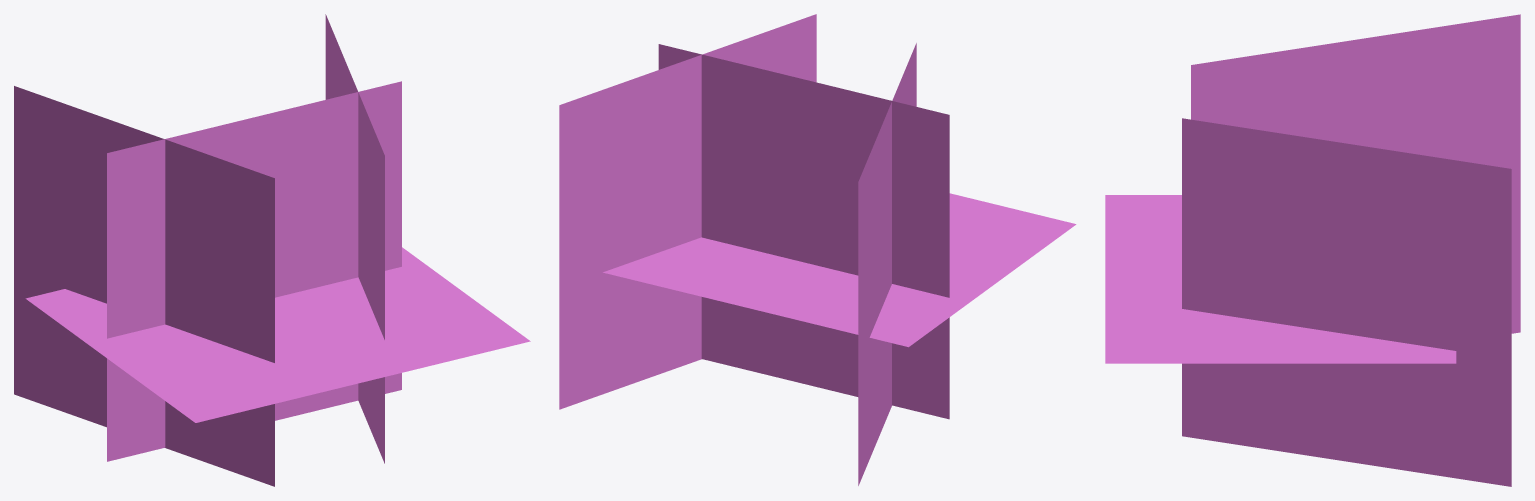
File: testbasemap.fbx
3 renders of one model, left to right at view 1: azimuth 30°, elevation 25°; view 2: azimuth 150°, elevation 25°; view 3: azimuth 270°, elevation 25°, orthographic. The views are drawn at different scales.
Parts seen in each view (by area): view 1: LeftWall, FrontWall, Plane, RightWall; view 2: FrontWall, RightWall, Plane, LeftWall; view 3: RightWall, LeftWall, Plane.
Part boxes in pixels (<box>): LeftWall: <box>14,86,274,486</box>; FrontWall: <box>107,81,401,461</box>; Plane: <box>25,247,530,422</box>; RightWall: <box>325,14,384,463</box>; FrontWall: <box>658,44,949,419</box>; RightWall: <box>559,14,816,409</box>; Plane: <box>603,193,1076,347</box>; LeftWall: <box>858,43,916,485</box>; RightWall: <box>1182,118,1511,486</box>; LeftWall: <box>1191,14,1520,333</box>; Plane: <box>1105,195,1456,363</box>.
Bounding box in the file's own units: 895 × 789 × 932.
